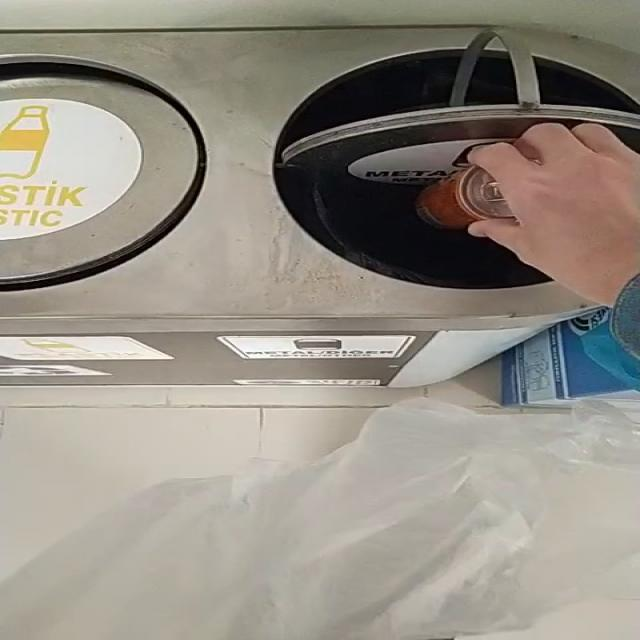bin: (275, 30, 640, 288), (0, 60, 204, 290)
metal: (416, 165, 515, 229)
